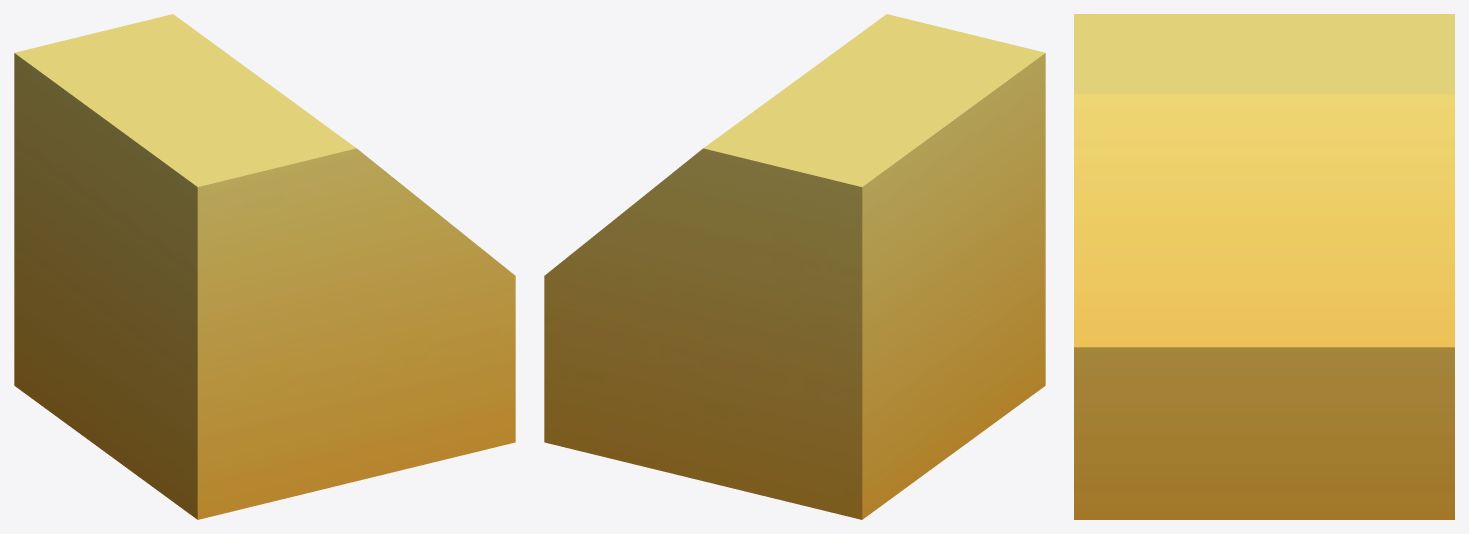
The model's file is primitive-slope-half.glb.
3 renders of one model, left to right at view 1: azimuth 30°, elevation 25°; view 2: azimuth 150°, elevation 25°; view 3: azimuth 270°, elevation 25°, orthographic. The views are drawn at different scales.
Visible parts, largest first — view 1: Primitive_Slope_Half; view 2: Primitive_Slope_Half; view 3: Primitive_Slope_Half.
Boxes of the visible parts, x1=… form: Primitive_Slope_Half: x1=14, y1=14, x2=515, y2=519; Primitive_Slope_Half: x1=544, y1=14, x2=1045, y2=519; Primitive_Slope_Half: x1=1074, y1=14, x2=1454, y2=519.
Bounding box in the file's own units: 4 × 4 × 4.
Materials: 1 (1 with a texture image).
